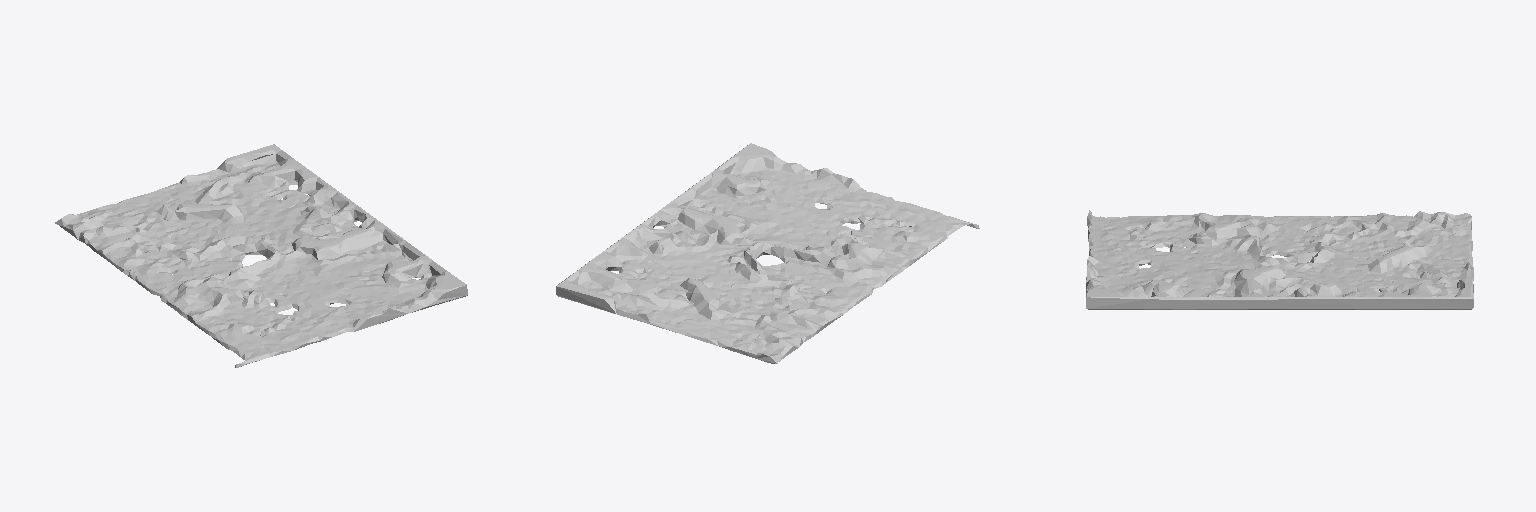
3 views of the same model, side by side, from view 1: azimuth 30°, elevation 25°; view 2: azimuth 150°, elevation 25°; view 3: azimuth 270°, elevation 25° (orthographic).
Parts seen in each view (by area): view 1: Liquid_Domain; view 2: Liquid_Domain; view 3: Liquid_Domain.
Boxes of the visible parts, <box> form: Liquid_Domain: <box>55,144,467,367</box>; Liquid_Domain: <box>556,143,979,363</box>; Liquid_Domain: <box>1086,210,1473,309</box>.
Bounding box in the file's own units: 116 × 13.68 × 168.